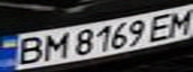1: (93, 23, 115, 53)
6: (109, 20, 133, 51)
8: (72, 26, 96, 56)
9: (124, 16, 154, 47)
B: (9, 34, 48, 66)
E: (145, 11, 178, 42)
M: (36, 30, 72, 61), (163, 6, 193, 37)
